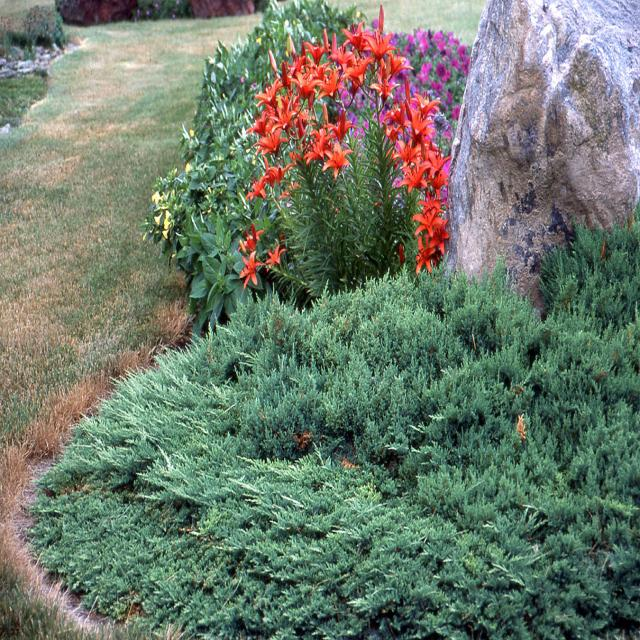Juniperus communis: (59, 297, 640, 640)
